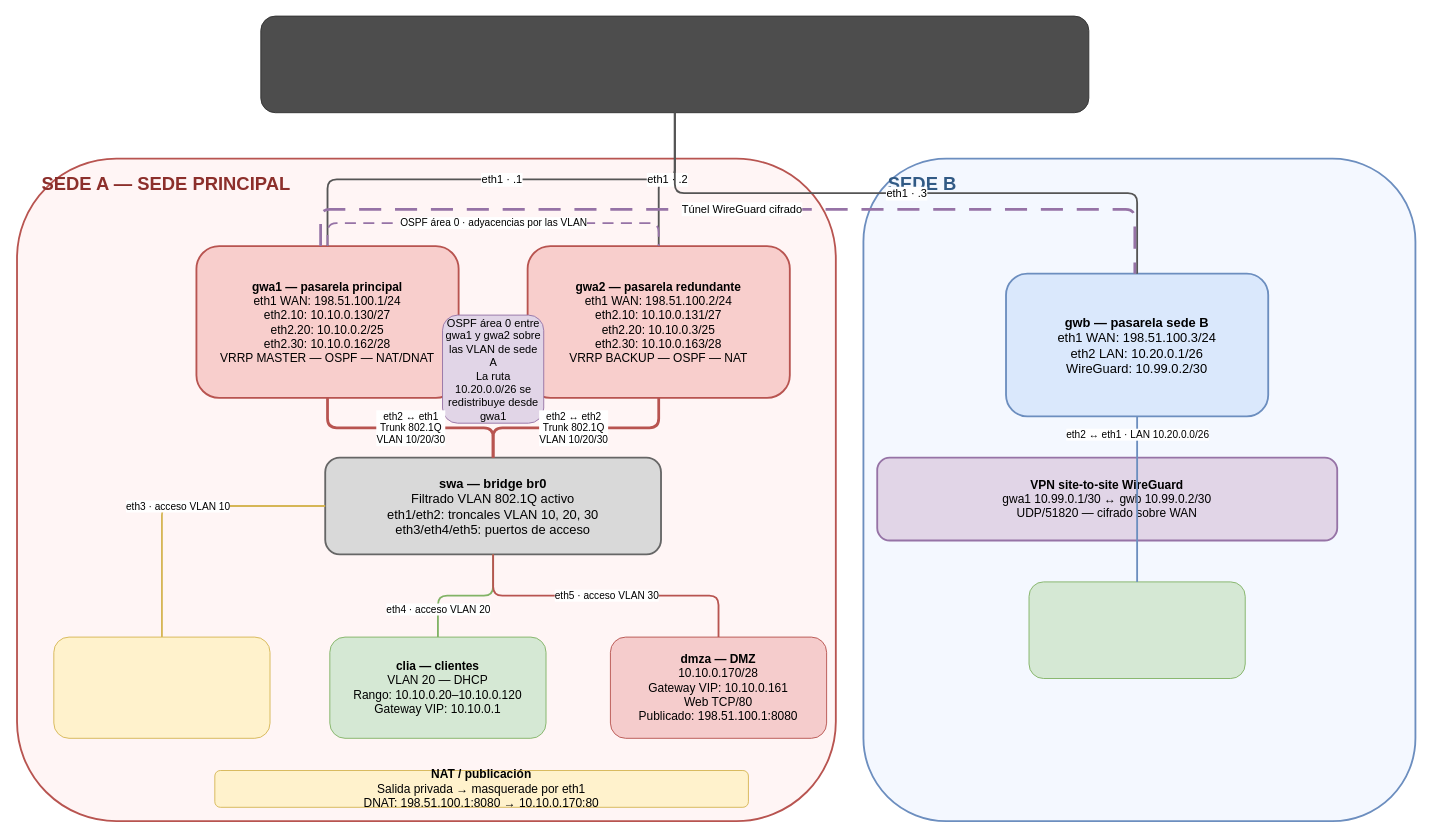
Image size: 1432x838. Some labels were removed from this diagram. The box of each missing label's shape, as (x1, y1, x2, y2) in pixels:
hostb 10.20.0.2/26 Gateway: 10.20.0.1: (1028, 581, 1245, 678)
srva — servidores 10.10.0.140/27 Gateway VIP: 10.10.0.129 HTTP interno TCP/8080: (53, 636, 270, 738)
WAN simulada Red 198.51.100.0/24 wan: 198.51.100.254 — servidor web de prueba: (260, 15, 1089, 113)
